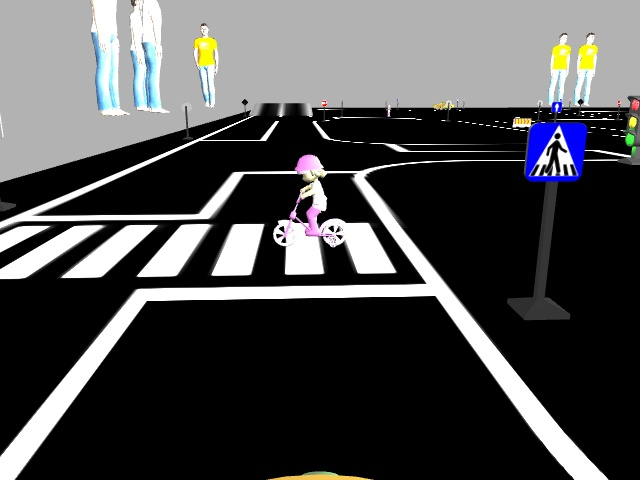Crosswalk: (525, 123, 587, 180)
Pedestrian: (268, 150, 347, 249)
TrafficLight: (624, 92, 639, 149)
